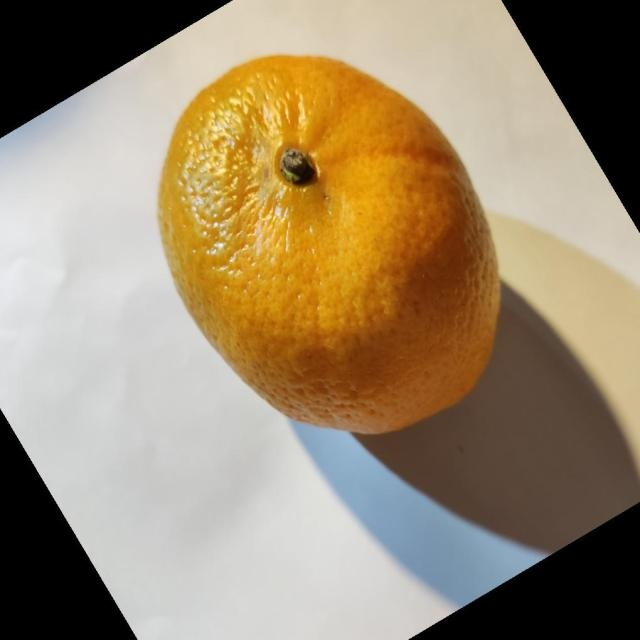agrume: (156, 52, 501, 436)
